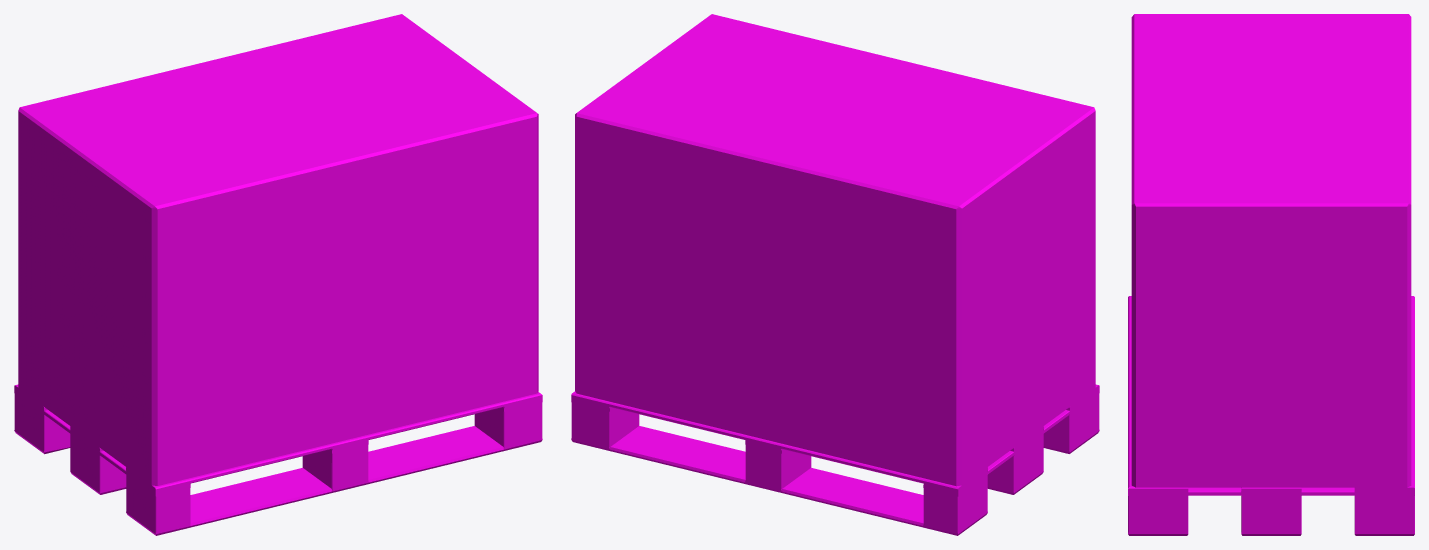
Rendered from stone pallet.fbx.
3 views of the same model, side by side, from view 1: azimuth 30°, elevation 25°; view 2: azimuth 150°, elevation 25°; view 3: azimuth 270°, elevation 25° (orthographic).
Visible parts, largest first — view 1: Stone_Pallet; view 2: Stone_Pallet; view 3: Stone_Pallet.
Part boxes in pixels (left/top/right/bottom): Stone_Pallet: left=14, top=14, right=542, bottom=535; Stone_Pallet: left=571, top=14, right=1099, bottom=535; Stone_Pallet: left=1128, top=14, right=1414, bottom=535.
Size of the model in its own units: 1.2 by 0.9706 by 0.76.
